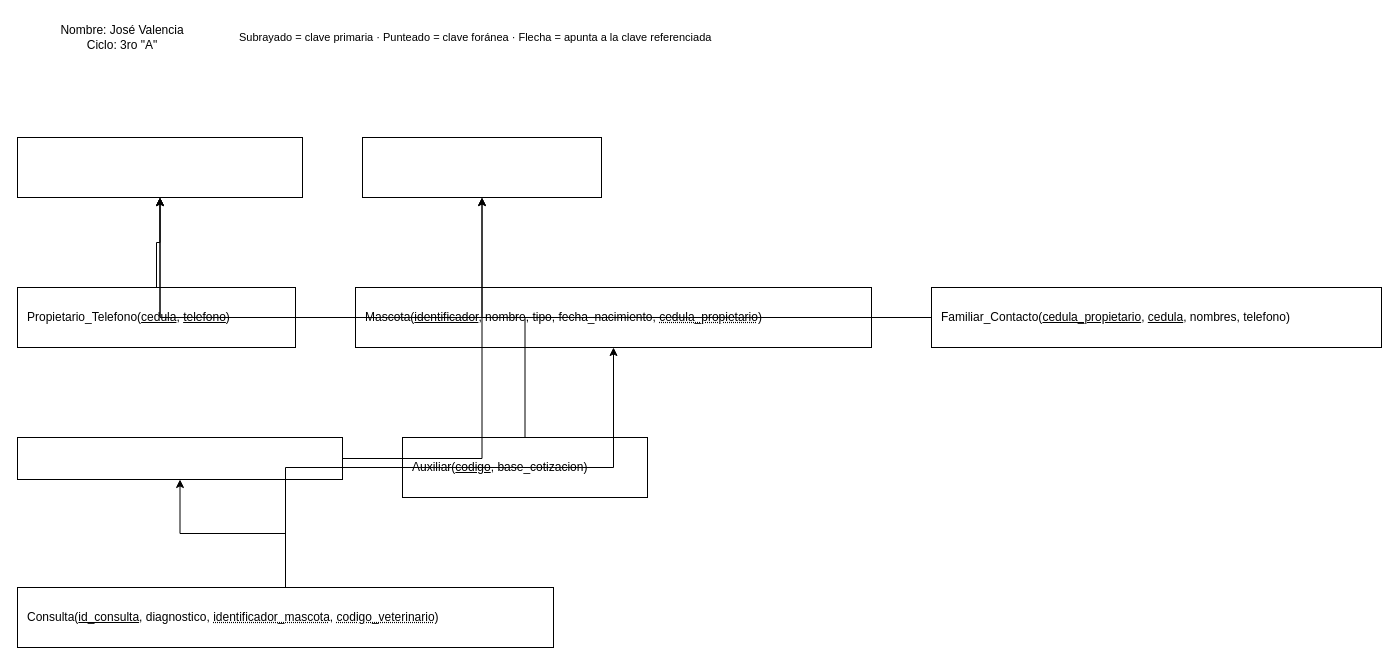
Some shapes in this 1399 by 665 pixel diagram are drawn without their labels. The box of each missing label's shape, as (x1, y1, x2, y2) in pixels:
Personal( codigo , cedula, nombre): (362, 136, 602, 198)
Propietario( cedula , nombres, apellidos): (16, 136, 302, 198)
Veterinario( codigo , especialidad, fecha_alta): (16, 436, 342, 480)
